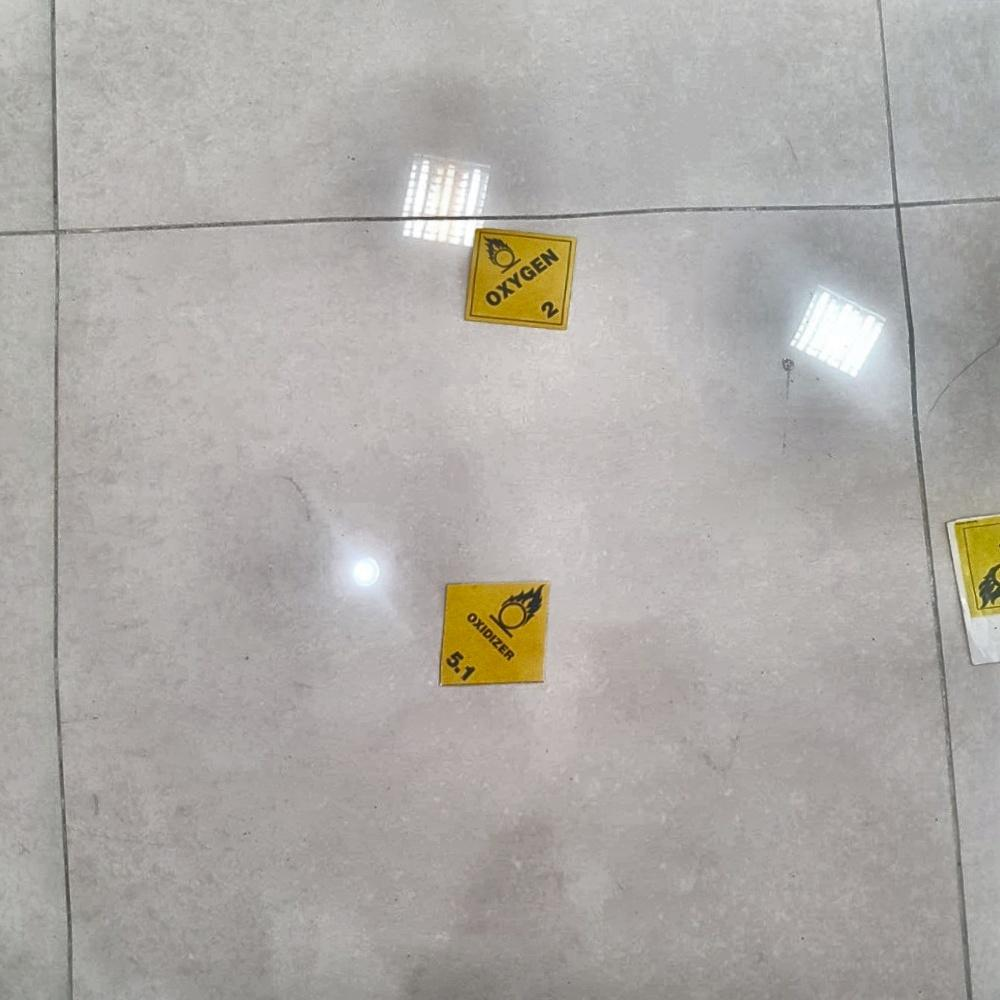oxidizer: (440, 579, 548, 689), (465, 231, 574, 326), (954, 515, 1000, 616)
